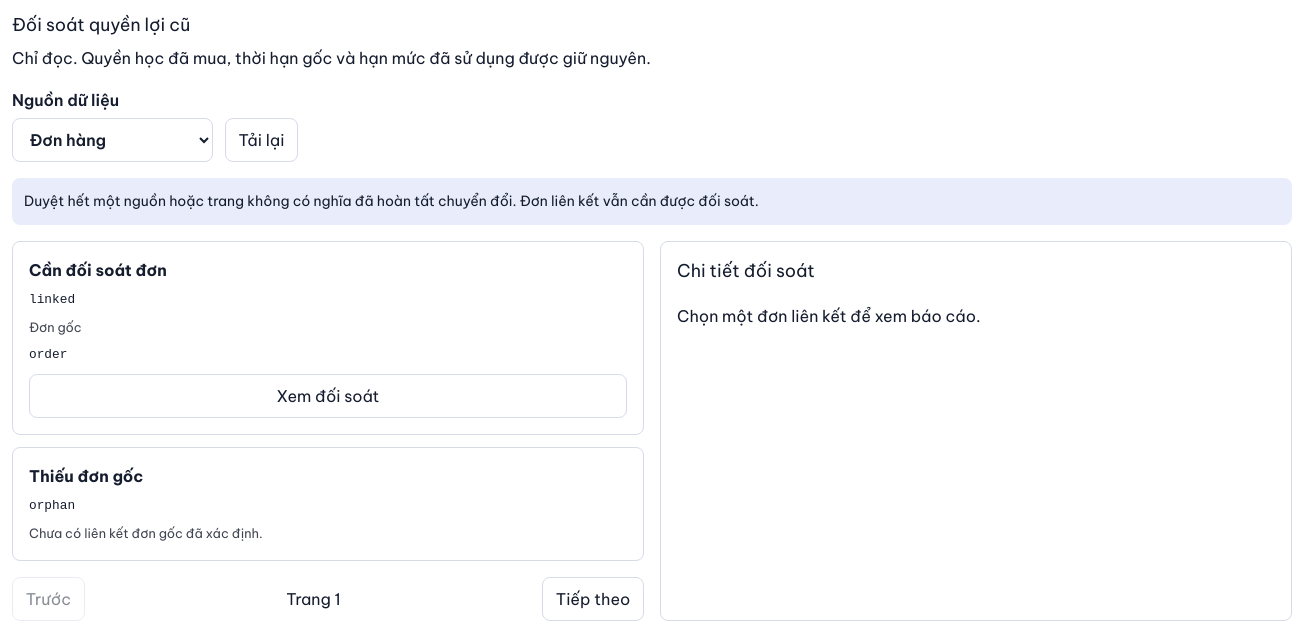
Test: Historical membership inventory › opens linked orders only and localizes findings without offering data mutations
Expected: the text "orphan" is shown, [29, 498, 75, 513]
Click the button "Xem đối soát".
click(328, 396)  # box [29, 374, 627, 418]
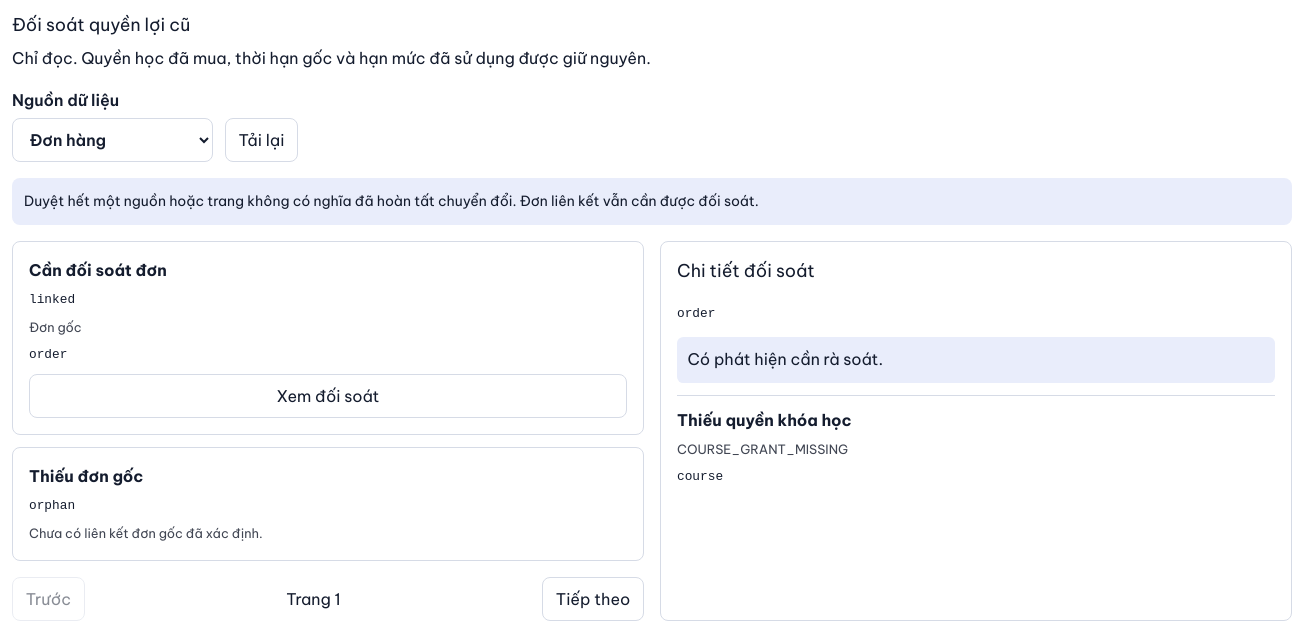
Result: the text "Thiếu quyền khóa học" is shown at [677, 410, 852, 430]
